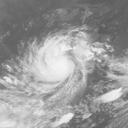cyclone: (21, 28, 95, 101)
